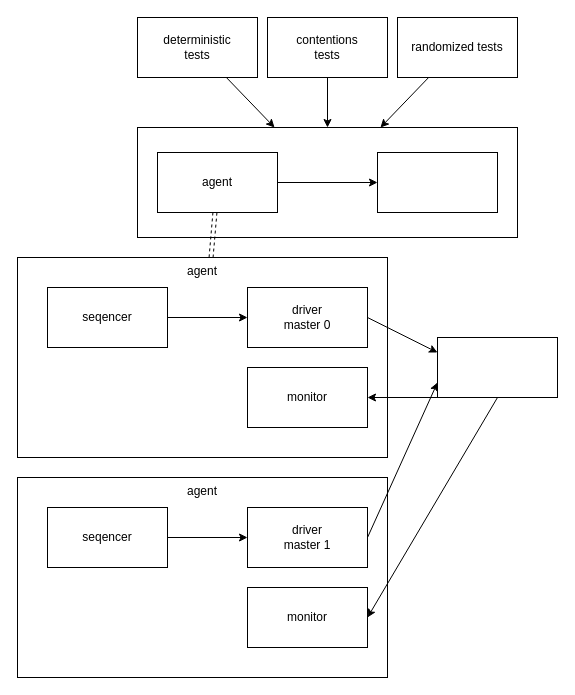
Some shapes in this 575 by 695 pixel diagram are drawn without their labels. The box of each missing label's shape, as (x1, y1, x2, y2) in pixels:
dut: (436, 336, 558, 398)
env: (136, 126, 518, 238)
scoreboard: (376, 152, 498, 212)
